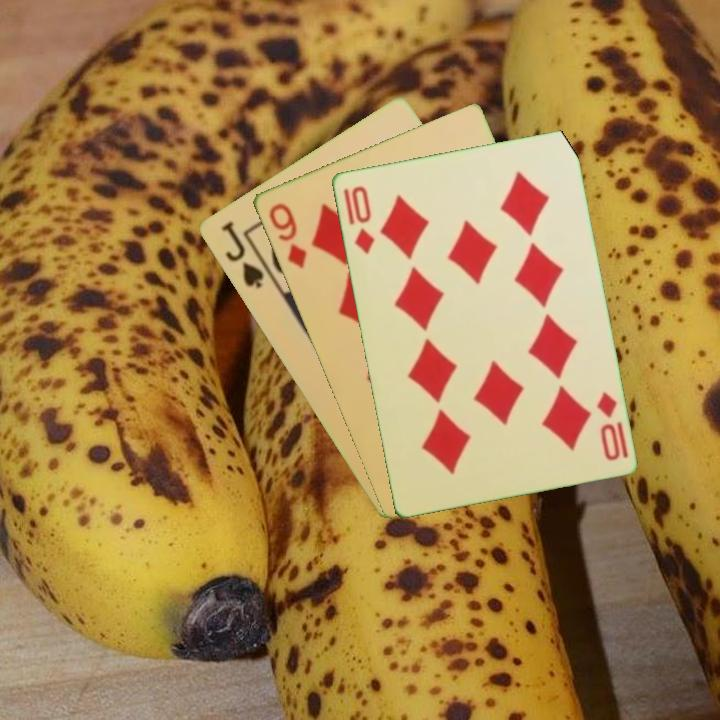10d: (592, 388, 623, 464), (347, 182, 377, 257)
9d: (264, 199, 309, 272)
Js: (217, 217, 267, 291)
